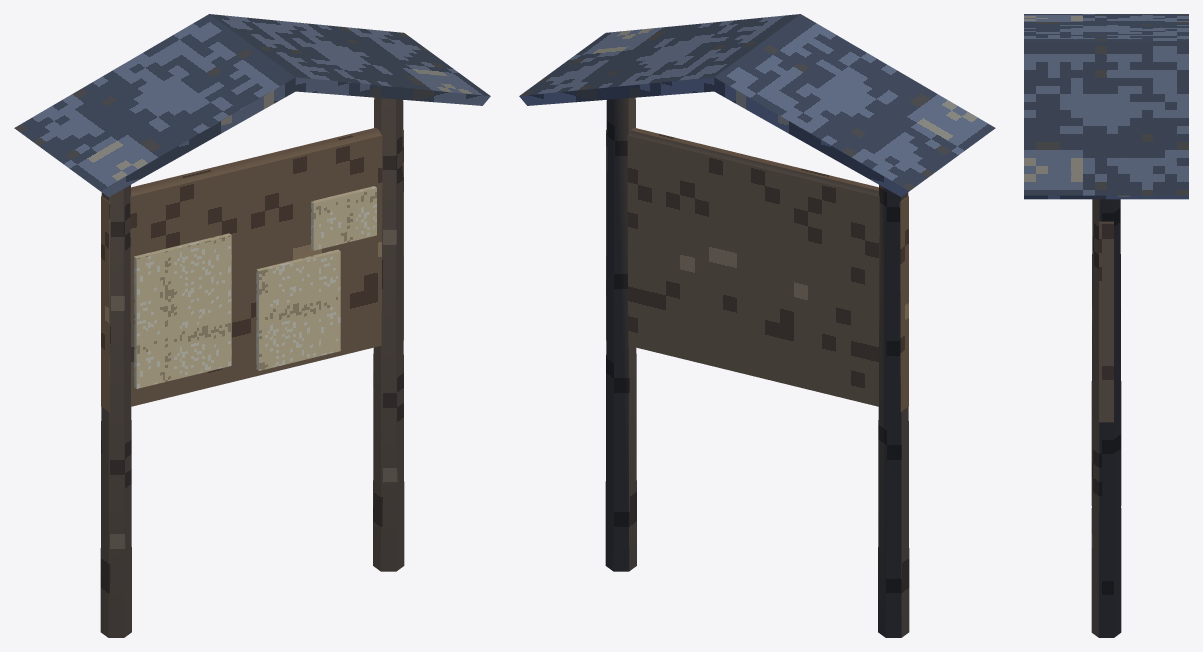
Rendered from mprop.signpost__notice.glb.
3 renders of one model, left to right at view 1: azimuth 30°, elevation 25°; view 2: azimuth 150°, elevation 25°; view 3: azimuth 270°, elevation 25°, orthographic. The views are drawn at different scales.
Visible parts, largest first — view 1: kit_boards, kit_post; view 2: kit_boards, kit_post; view 3: kit_boards, kit_post.
Boxes of the visible parts, box(x1,y1,x2,y2) form: kit_boards: box(14, 14, 490, 411); kit_post: box(100, 97, 404, 637); kit_boards: box(519, 14, 995, 411); kit_post: box(605, 97, 909, 637); kit_boards: box(1024, 14, 1188, 422); kit_post: box(1091, 199, 1121, 637).
Size of the model in its own units: 1.72 by 2.33 by 0.66.
Materials: 3 (3 with a texture image).
